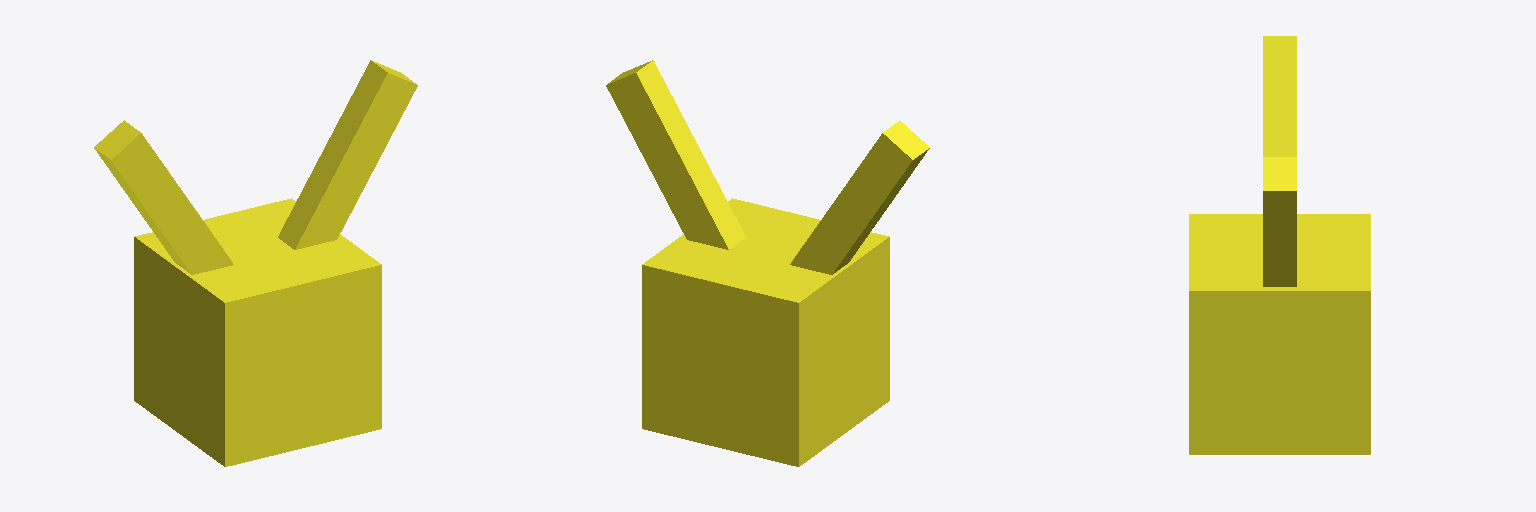
3 views of the same model, side by side, from view 1: azimuth 30°, elevation 25°; view 2: azimuth 150°, elevation 25°; view 3: azimuth 270°, elevation 25° (orthographic).
Parts seen in each view (by area): view 1: 立方体.005; view 2: 立方体.005; view 3: 立方体.005.
Boxes of the visible parts, x1=… form: 立方体.005: x1=94, y1=60, x2=417, y2=466; 立方体.005: x1=606, y1=60, x2=929, y2=466; 立方体.005: x1=1189, y1=36, x2=1370, y2=454.
Size of the model in its own units: 7.83 by 7.77 by 4.
Materials: 1 (1 with a texture image).